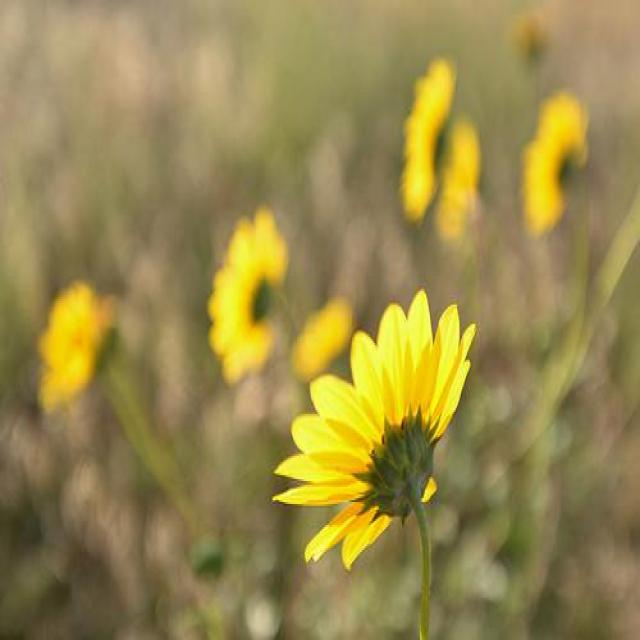sunflower: (277, 292, 476, 564), (206, 207, 282, 383), (522, 90, 589, 234), (402, 59, 452, 223), (36, 286, 105, 400), (439, 120, 483, 234), (294, 300, 356, 380)
